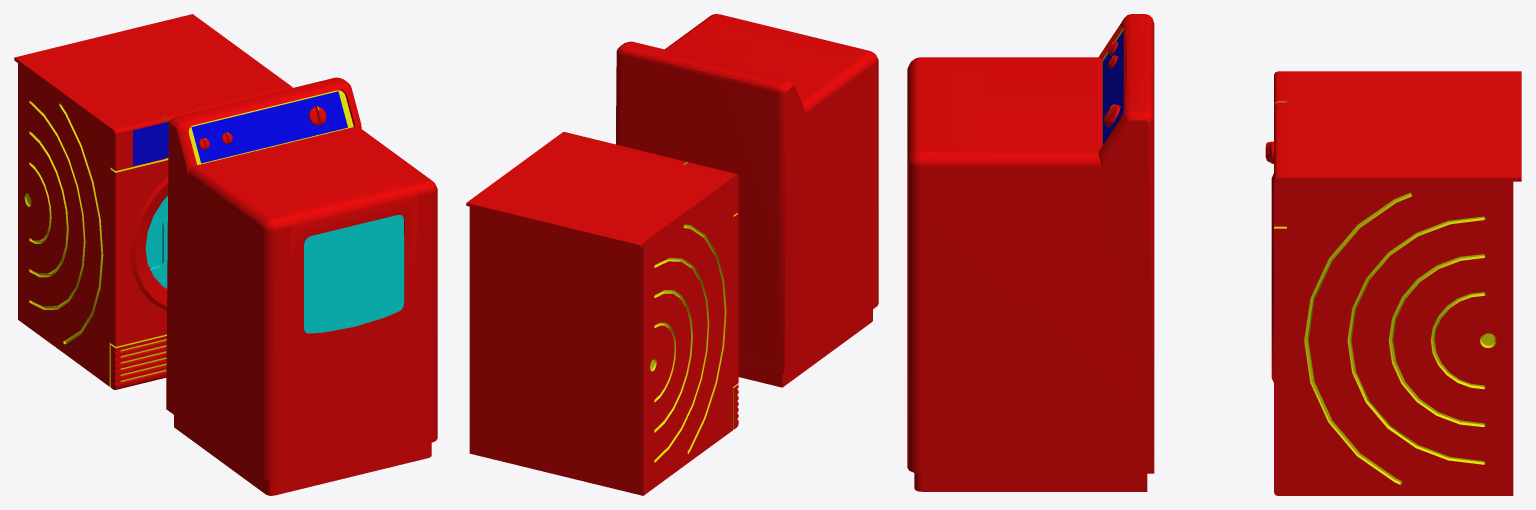
Rendered from MT_clothes_dryers_grp.fbx.
3 views of the same model, side by side, from view 1: azimuth 30°, elevation 25°; view 2: azimuth 150°, elevation 25°; view 3: azimuth 270°, elevation 25° (orthographic). The views are drawn at different scales.
Parts seen in each view (by area): view 1: clothes_dryer_1, clothes_dryer_2, clothes_dryer_door_1, clothes_dryer_door_2; view 2: clothes_dryer_2, clothes_dryer_1, clothes_dryer_door_1; view 3: clothes_dryer_1, clothes_dryer_2, clothes_dryer_door_1.
Boxes of the visible parts, x1,y1,x2,y2 form: clothes_dryer_1: (166,77,437,495); clothes_dryer_2: (14,14,292,389); clothes_dryer_door_1: (280,176,417,348); clothes_dryer_door_2: (130,176,168,310); clothes_dryer_2: (466,132,738,495); clothes_dryer_1: (616,14,878,387); clothes_dryer_door_1: (725,18,855,54); clothes_dryer_1: (907,14,1154,491); clothes_dryer_2: (1274,71,1521,495); clothes_dryer_door_1: (907,67,951,152).
Size of the model in its own units: 68.71 by 114 by 167.
